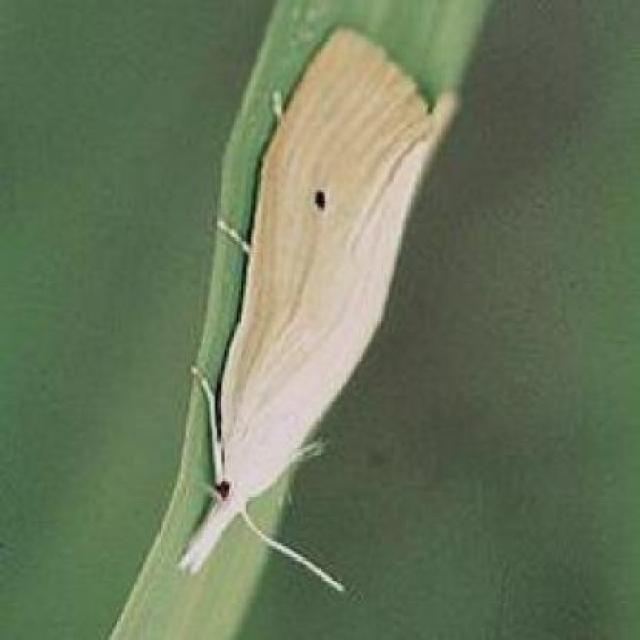stem-borer: (173, 21, 462, 594)
